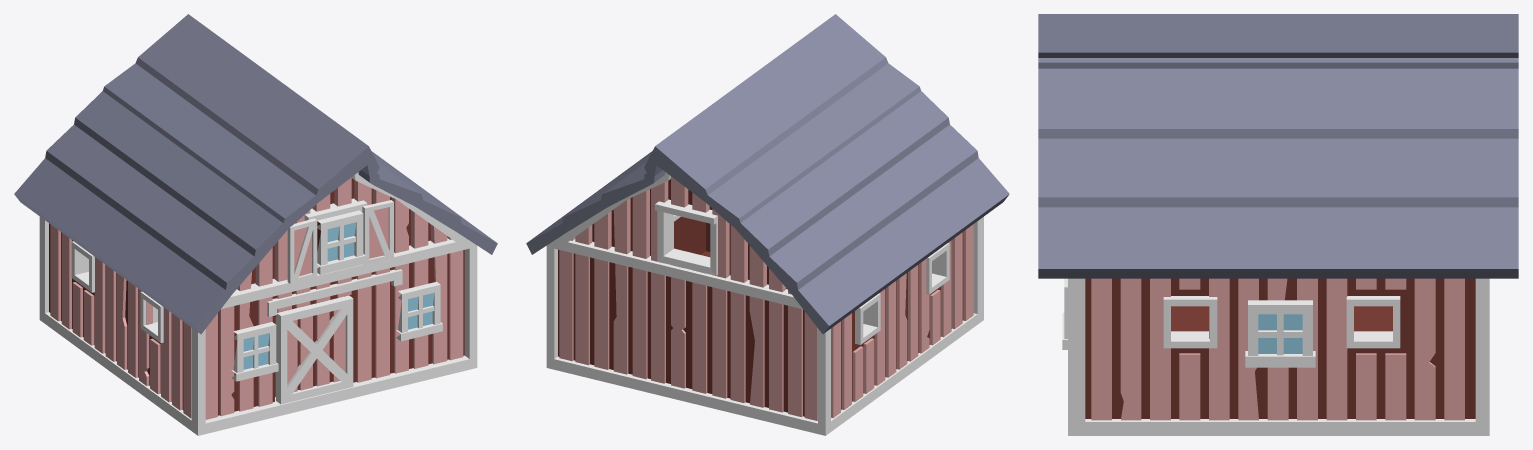
The model's file is v7-lada-hus-quaternius-tre-fonster.glb.
3 renders of one model, left to right at view 1: azimuth 30°, elevation 25°; view 2: azimuth 150°, elevation 25°; view 3: azimuth 270°, elevation 25°, orthographic. The views are drawn at different scales.
Parts seen in each view (by area): view 1: Small_Barn_Cube.013, Small_Barn_Door_Cube.008, Window_2, Window_1, Window_3, SmallBarn_Window2_Cube.022, SmallBarn_Window_Cube.023; view 2: Small_Barn_Cube.013; view 3: Small_Barn_Cube.013, Window_Side.
Boxes of the visible parts, x1,y1,x2,y2 form: Small_Barn_Cube.013: (14,14,497,435); Small_Barn_Door_Cube.008: (276,295,353,404); Window_2: (317,210,365,274); Window_1: (231,322,278,381); Window_3: (396,281,442,341); SmallBarn_Window2_Cube.022: (287,218,317,283); SmallBarn_Window_Cube.023: (362,200,393,264); Small_Barn_Cube.013: (526,14,1009,435); Small_Barn_Cube.013: (1038,14,1518,435); Window_Side: (1245,300,1315,367).
Size of the model in its own units: 6.08 by 4.96 by 6.27.
